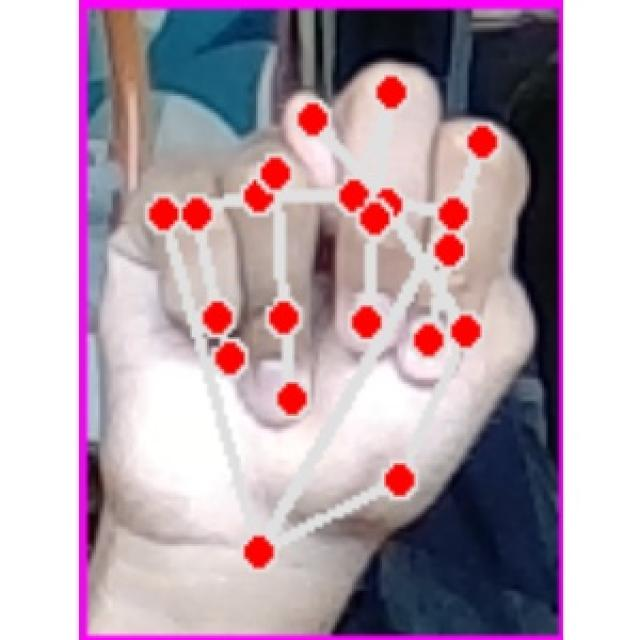N: (99, 52, 542, 599)
